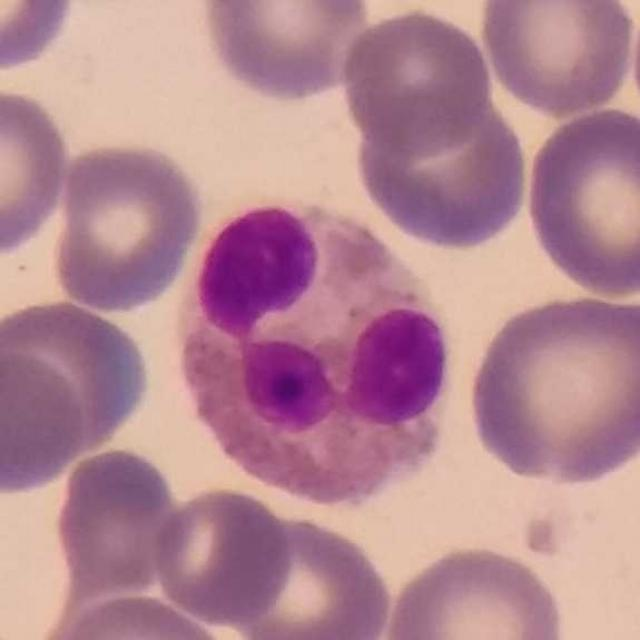eosino: (175, 193, 452, 516)
